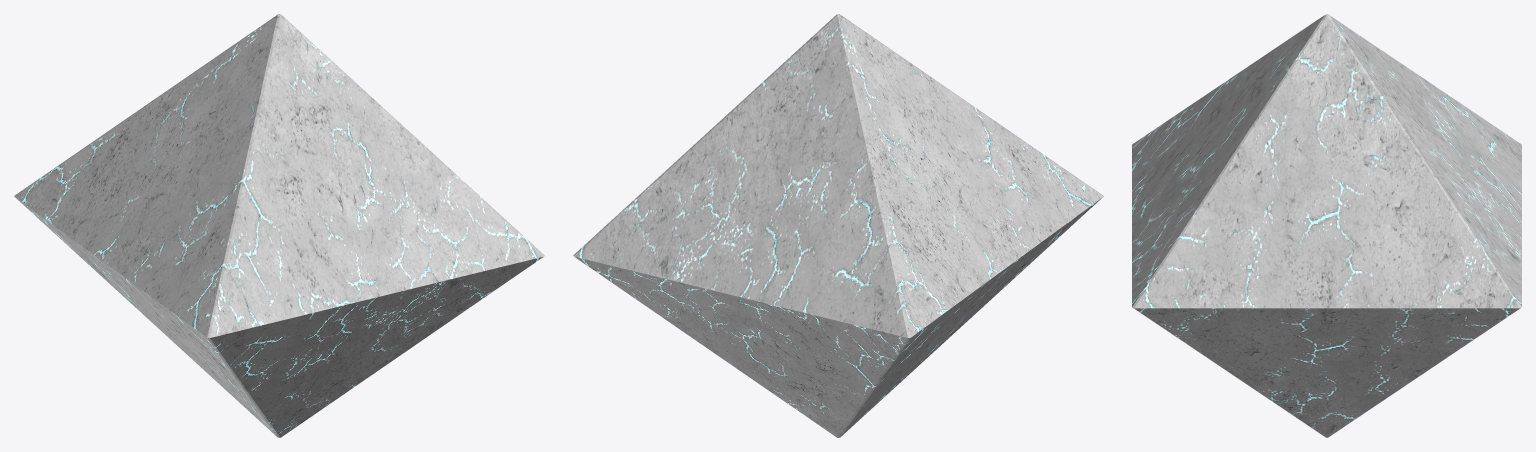
Rendered from Lens.fbx.
The picture shows the model from 3 angles, left to right: view 1: azimuth 30°, elevation 25°; view 2: azimuth 150°, elevation 25°; view 3: azimuth 270°, elevation 25°; orthographic projection.
Visible parts, largest first — view 1: pasted__Pyramid1; view 2: pasted__Pyramid1; view 3: pasted__Pyramid1.
Part boxes in pixels (x1,y1,x2,y2): pasted__Pyramid1: (14,14,544,437); pasted__Pyramid1: (573,14,1103,437); pasted__Pyramid1: (1132,14,1521,437).
Size of the model in its own units: 9.9 by 11.84 by 9.9.
